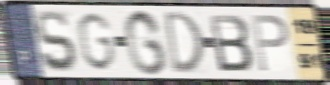B: (207, 13, 255, 74)
D: (162, 10, 206, 76)
G: (122, 7, 169, 76), (75, 11, 118, 73)
P: (249, 13, 291, 75)
S: (34, 8, 80, 74)
